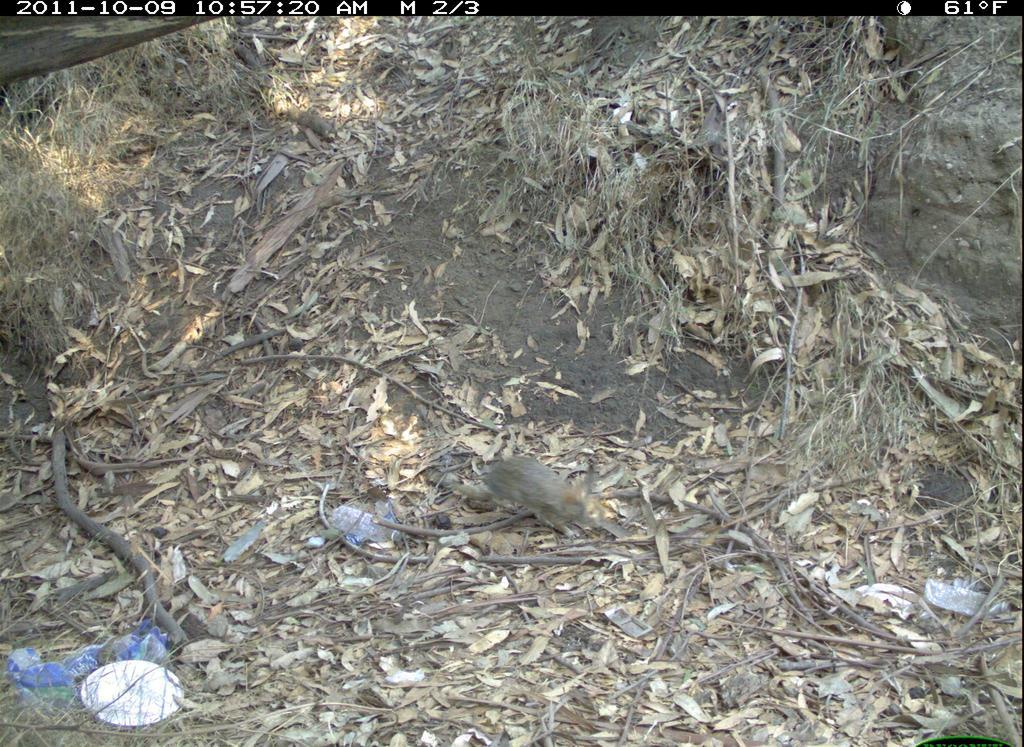rabbit: (479, 444, 610, 542)
